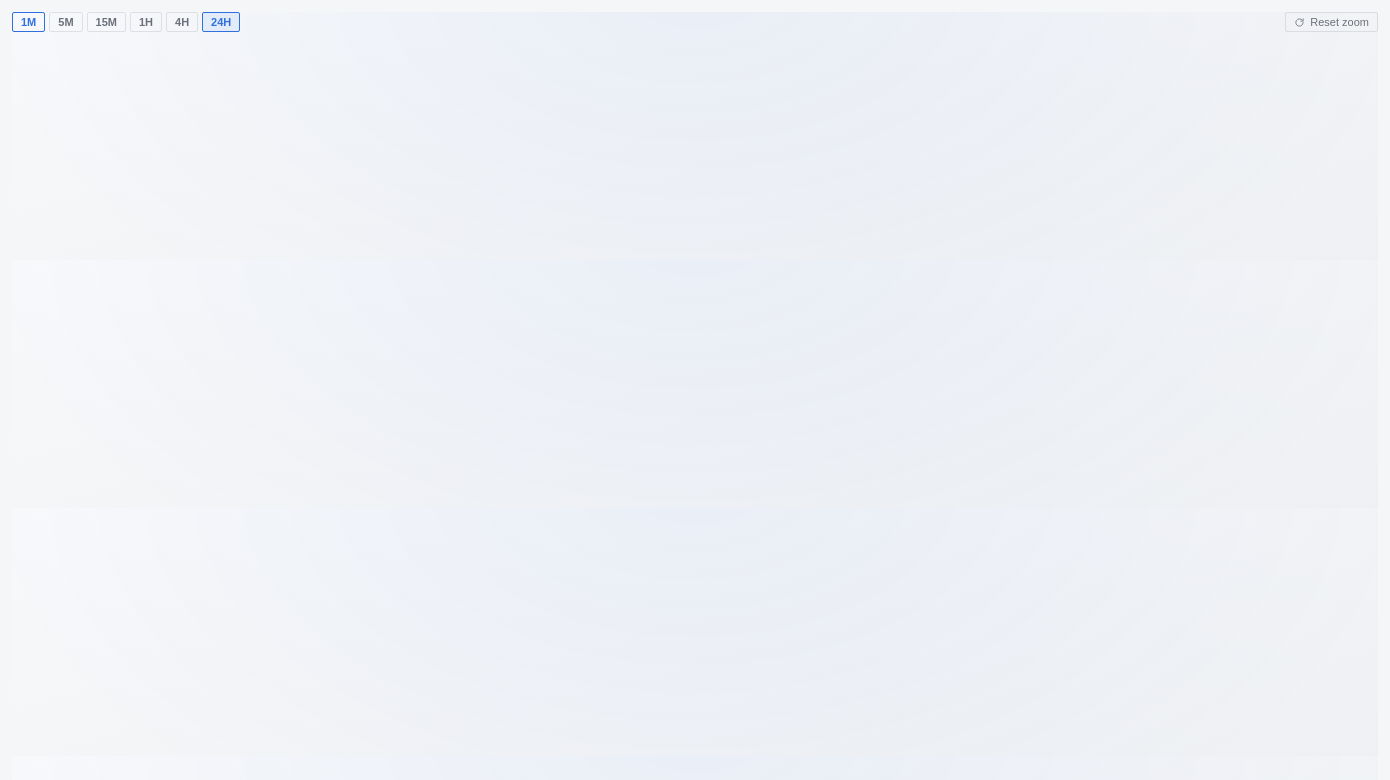
Test: CandleChart › shows an error note when a timeframe refetch fails, without crashing
Click the button "4H" at (182, 22), box [166,12,198,32]
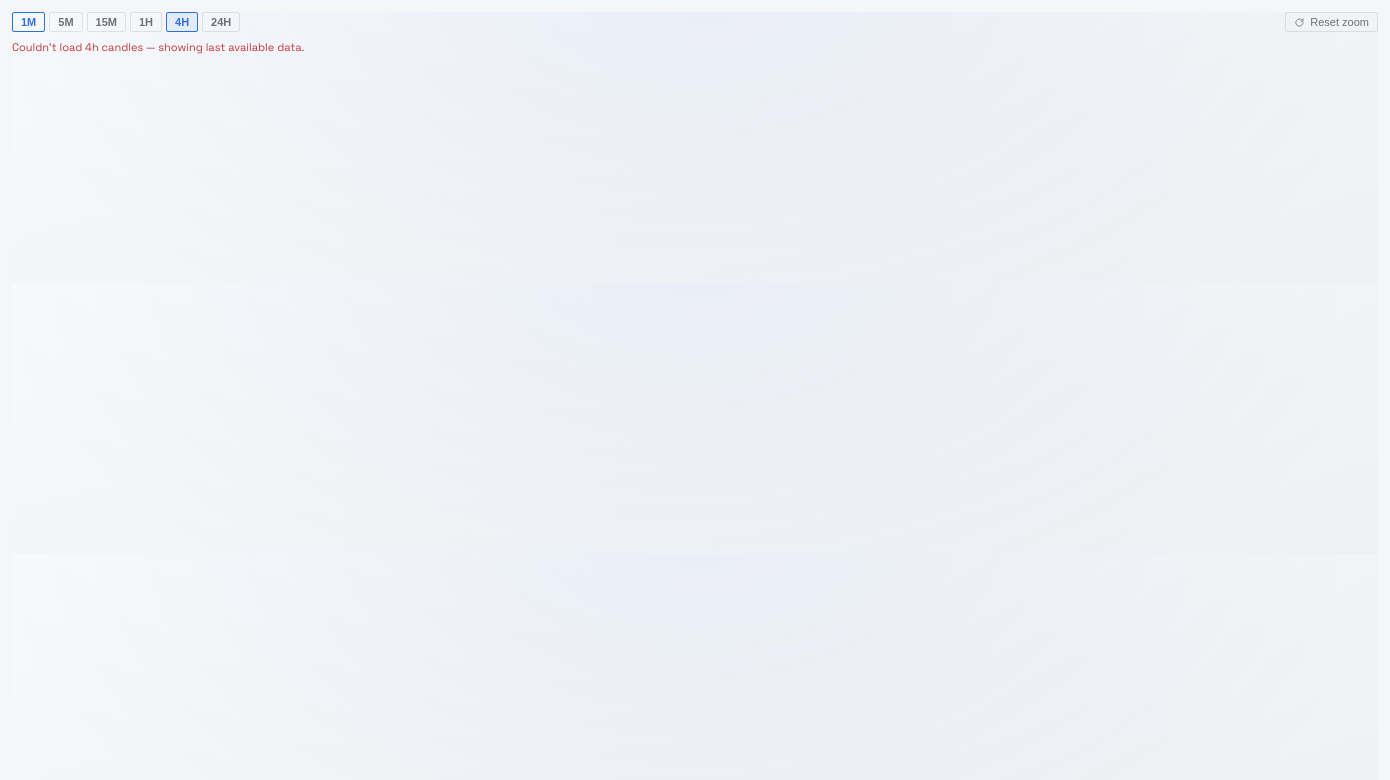
Now the text "Couldn't load 4h candles — showing last available data." is shown, box [12,40,304,54]
